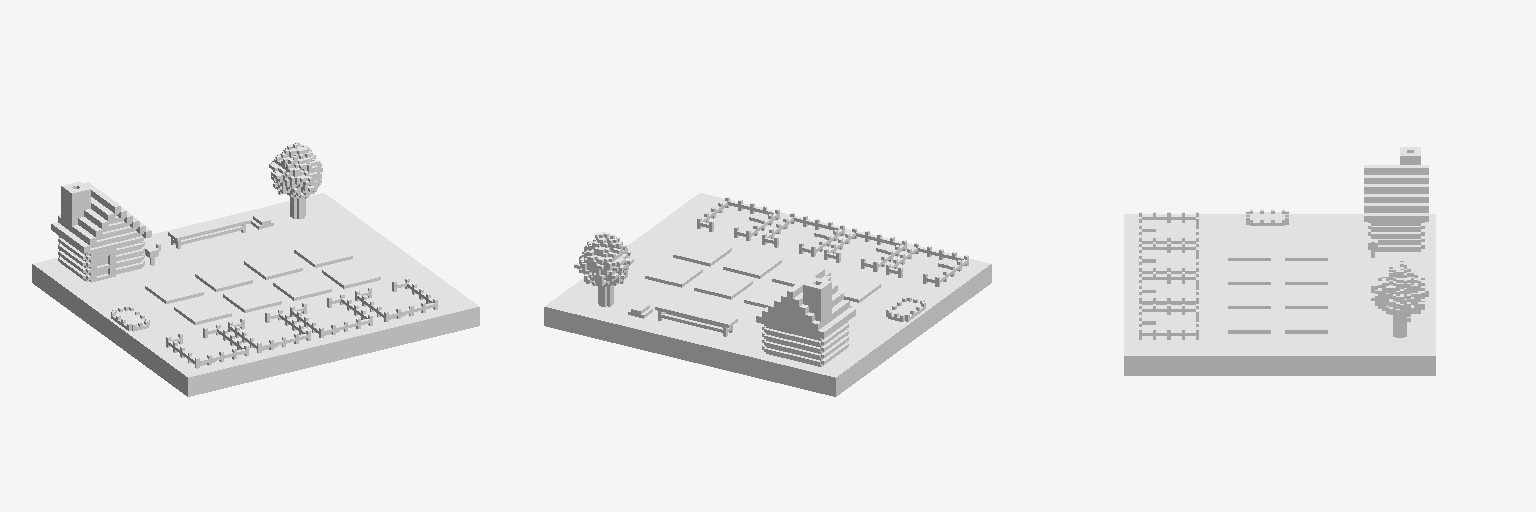
File: farmmapObject.obj
The picture shows the model from 3 angles: view 1: azimuth 30°, elevation 25°; view 2: azimuth 150°, elevation 25°; view 3: azimuth 270°, elevation 25°; orthographic projection.
Parts seen in each view (by area): view 1: object 1; view 2: object 1; view 3: object 1.
Boxes of the visible parts, box(x1,y1,x2,y2) form: object 1: box(32, 142, 479, 396); object 1: box(544, 193, 991, 396); object 1: box(1124, 147, 1435, 375).
Bounding box in the file's own units: 9.4 × 3 × 8.7.